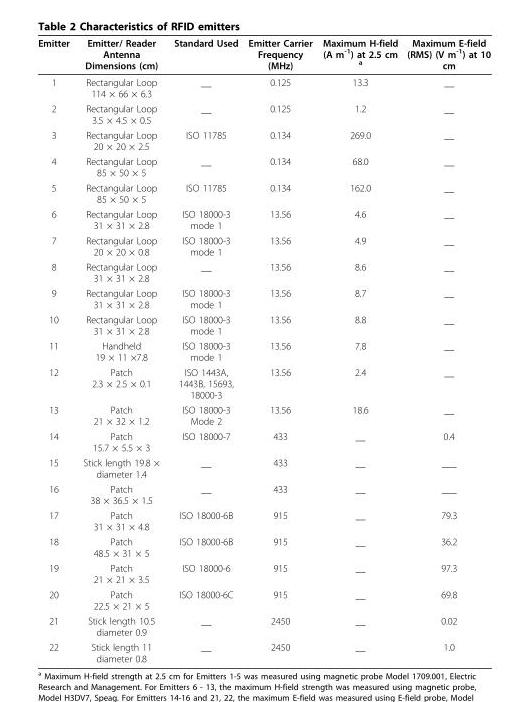table: (37, 36, 490, 663)
table column: (75, 36, 166, 663), (401, 36, 490, 663), (316, 36, 401, 663), (166, 36, 242, 663), (242, 36, 316, 663), (37, 36, 75, 663)
table column header: (37, 36, 490, 73)
table row: (37, 36, 490, 73), (37, 364, 490, 401), (37, 73, 490, 100), (37, 100, 490, 127), (37, 179, 490, 206), (37, 258, 490, 285), (37, 337, 490, 364), (37, 401, 490, 428), (37, 454, 490, 481), (37, 533, 490, 560), (37, 612, 490, 639), (37, 127, 490, 153), (37, 153, 490, 179), (37, 206, 490, 232), (37, 232, 490, 258), (37, 285, 490, 311), (37, 311, 490, 337), (37, 428, 490, 454), (37, 481, 490, 507), (37, 507, 490, 533), (37, 560, 490, 586), (37, 586, 490, 612), (37, 639, 490, 663)
